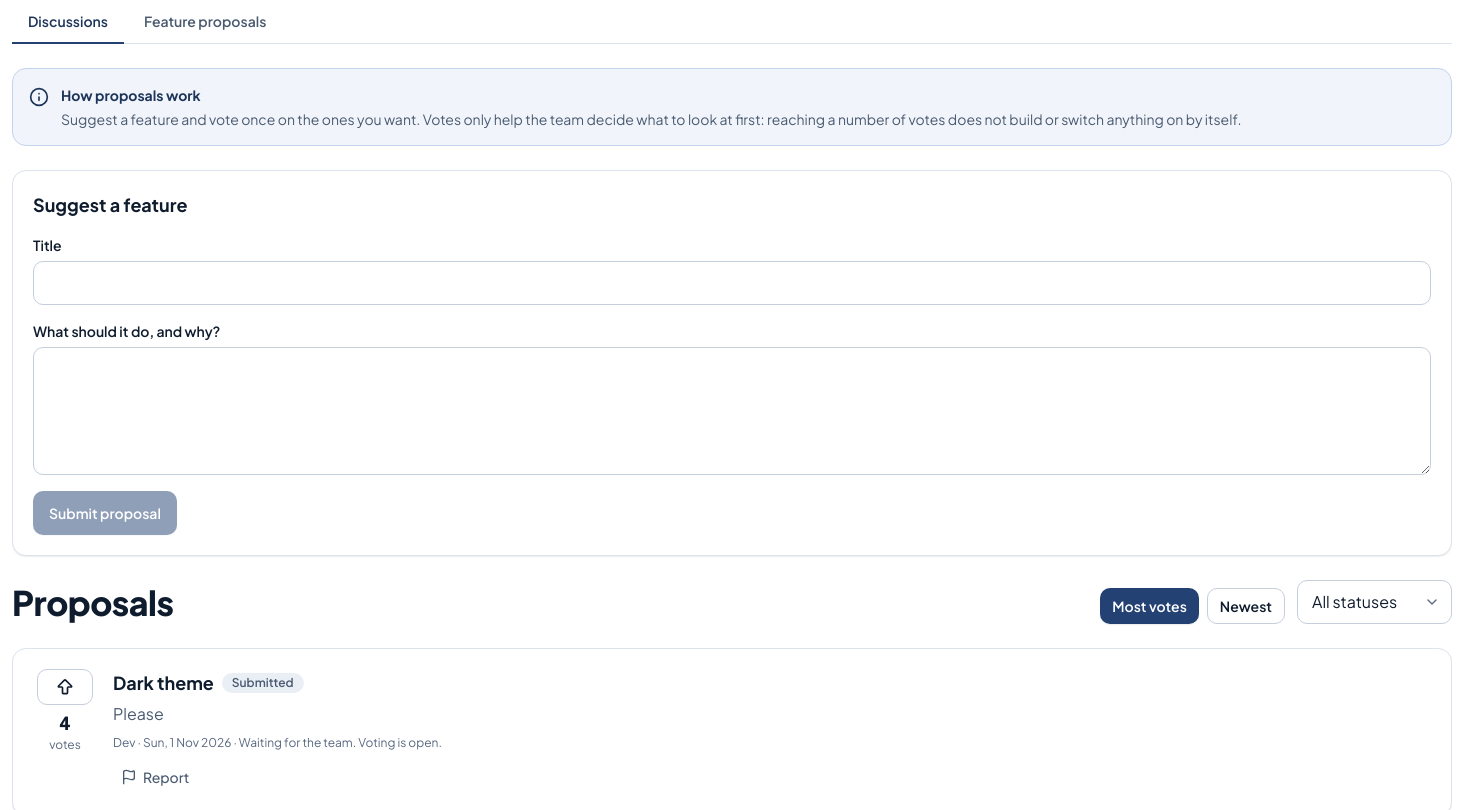
Test: proposals › votes with the server's count, and disables voting once closed
Click the button named "Vote for Dark theme" at [65, 687], box [37,669,93,705]
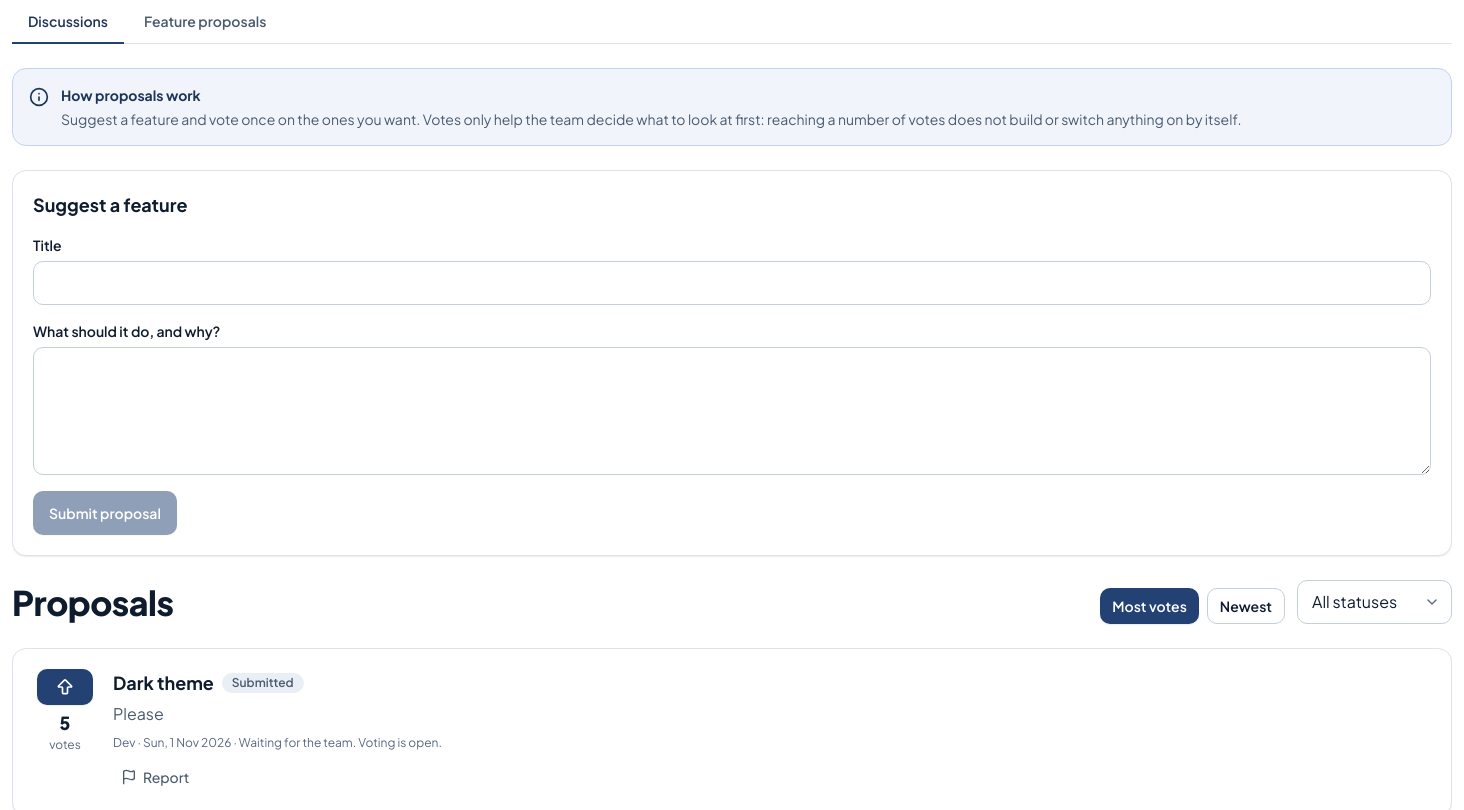
Check: the text "does not build or switch anything on by itself" is shown, box [61,110,1242,128]
Check: the text named "5 votes" is shown, box [60,709,70,737]
